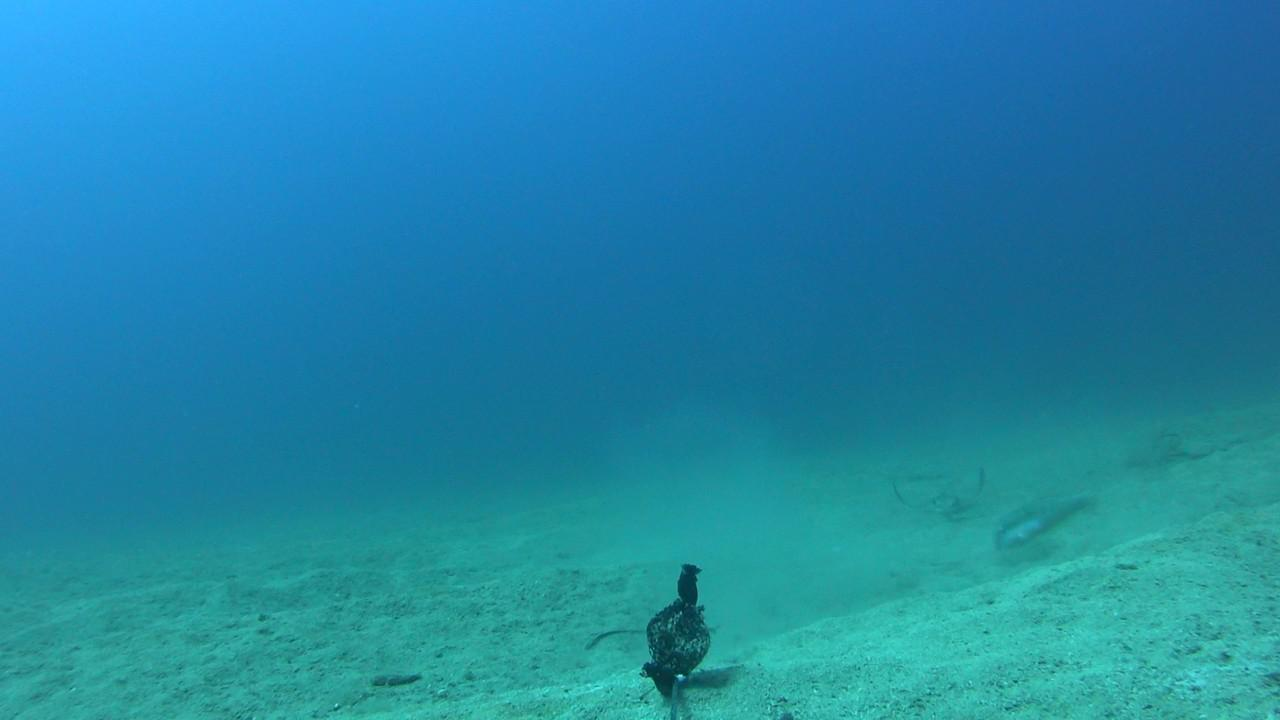myliobatis: (861, 468, 1005, 518)
raor: (995, 486, 1107, 556)
